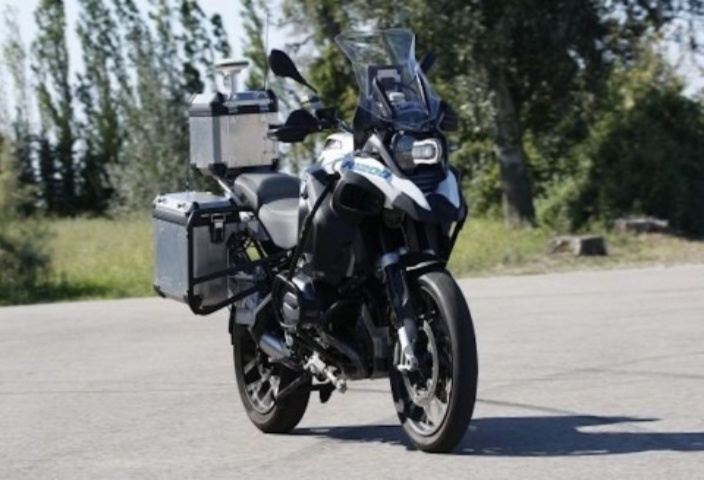motorcycle: (148, 14, 502, 461)
